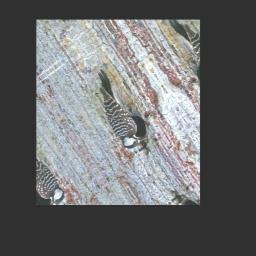Woodpecker: (80, 67, 151, 156)
